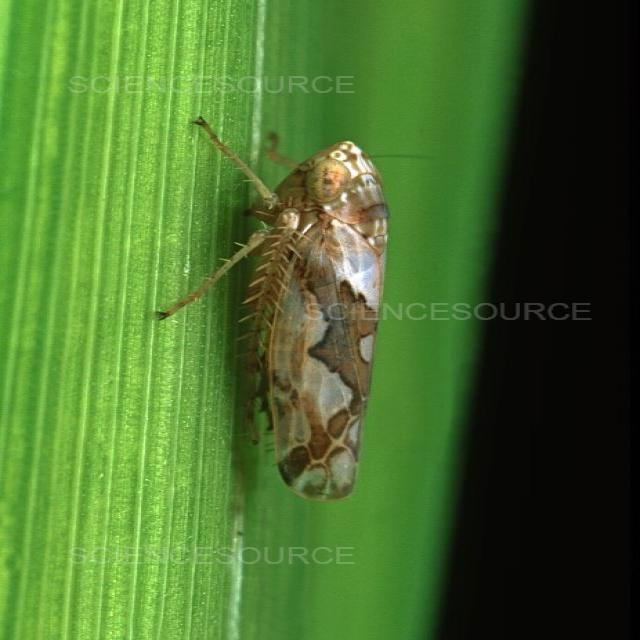Yechan: (164, 101, 464, 520)
